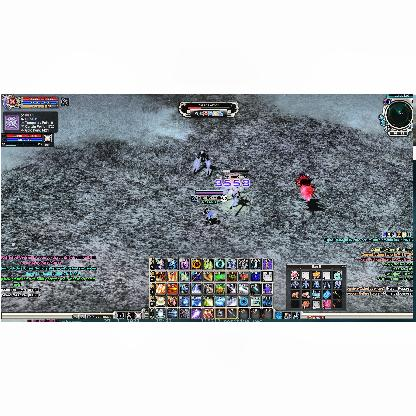caliana: (192, 150, 210, 174)
